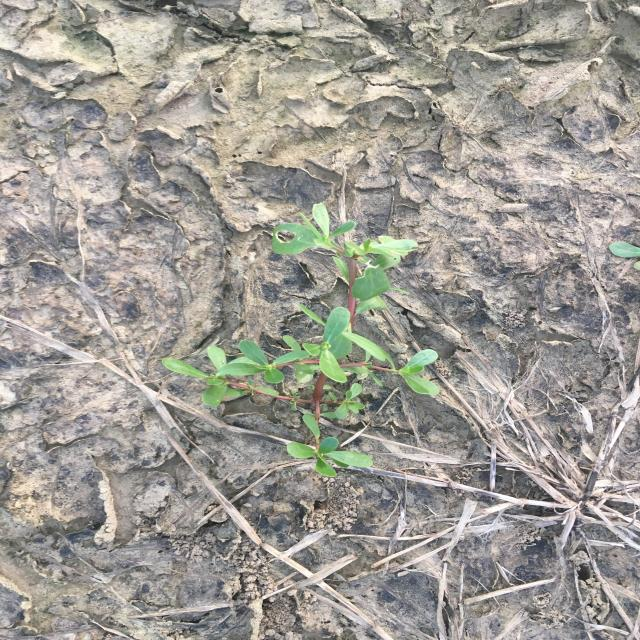Purslane: (160, 200, 444, 480)
